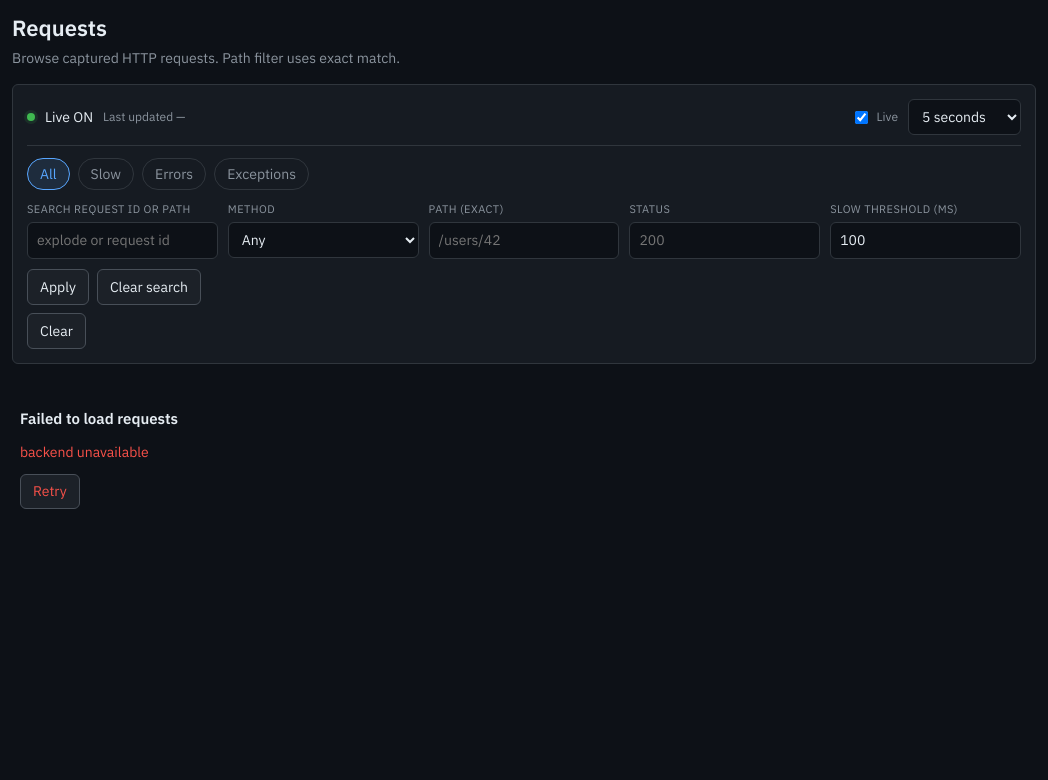
RequestsExplorer › shows error state and retries after API failure
Expected: the heading "Failed to load requests" is shown, [20,408,178,430]
Expected: the text "backend unavailable" is shown, [20,442,149,462]
Click the button "Retry" at point(50, 492), box [20,474,80,509]
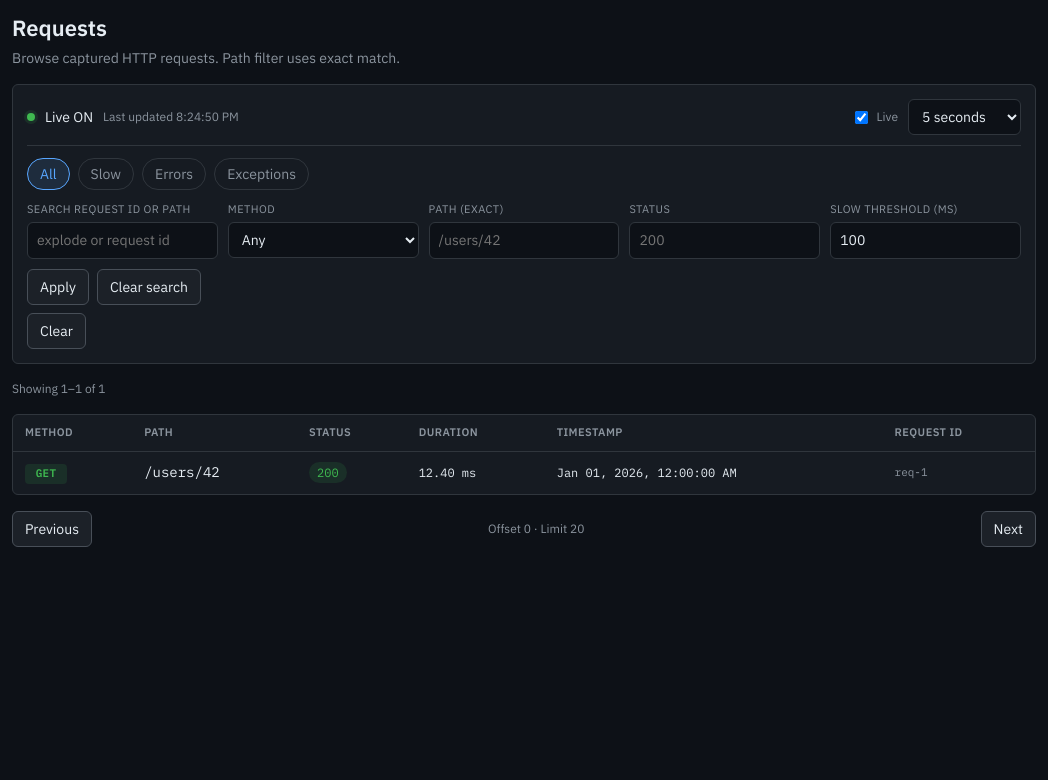
Result: the table with test id "request-table" is shown at [13,415,1035,494]
